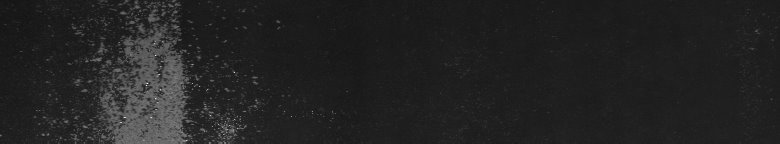kb: (100, 4, 168, 136)
